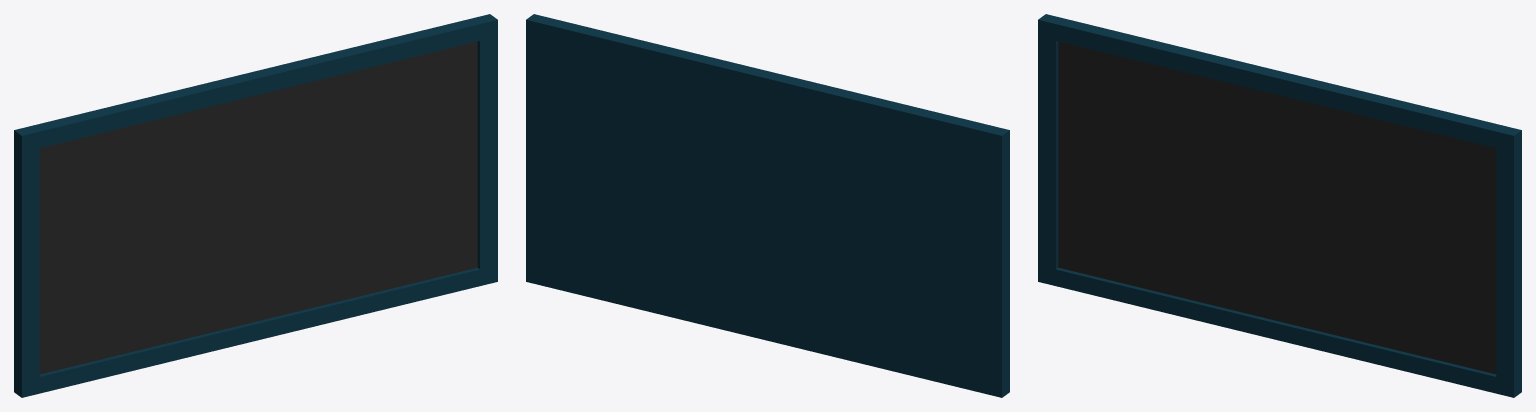
The model's file is Itr_Obj_Monitor_LCD_Screen_Off_03.FBX.
3 renders of one model, left to right at view 1: azimuth 30°, elevation 25°; view 2: azimuth 150°, elevation 25°; view 3: azimuth 330°, elevation 25°, orthographic.
Visible parts, largest first — view 1: Itr_Obj_Monitor_LCD_Screen_Off_03; view 2: Itr_Obj_Monitor_LCD_Screen_Off_03; view 3: Itr_Obj_Monitor_LCD_Screen_Off_03.
Part boxes in pixels (<box>): Itr_Obj_Monitor_LCD_Screen_Off_03: <box>14,14,497,397</box>; Itr_Obj_Monitor_LCD_Screen_Off_03: <box>526,14,1009,397</box>; Itr_Obj_Monitor_LCD_Screen_Off_03: <box>1038,14,1521,397</box>.
Bounding box in the file's own units: 66.79 × 35.13 × 1.92.
